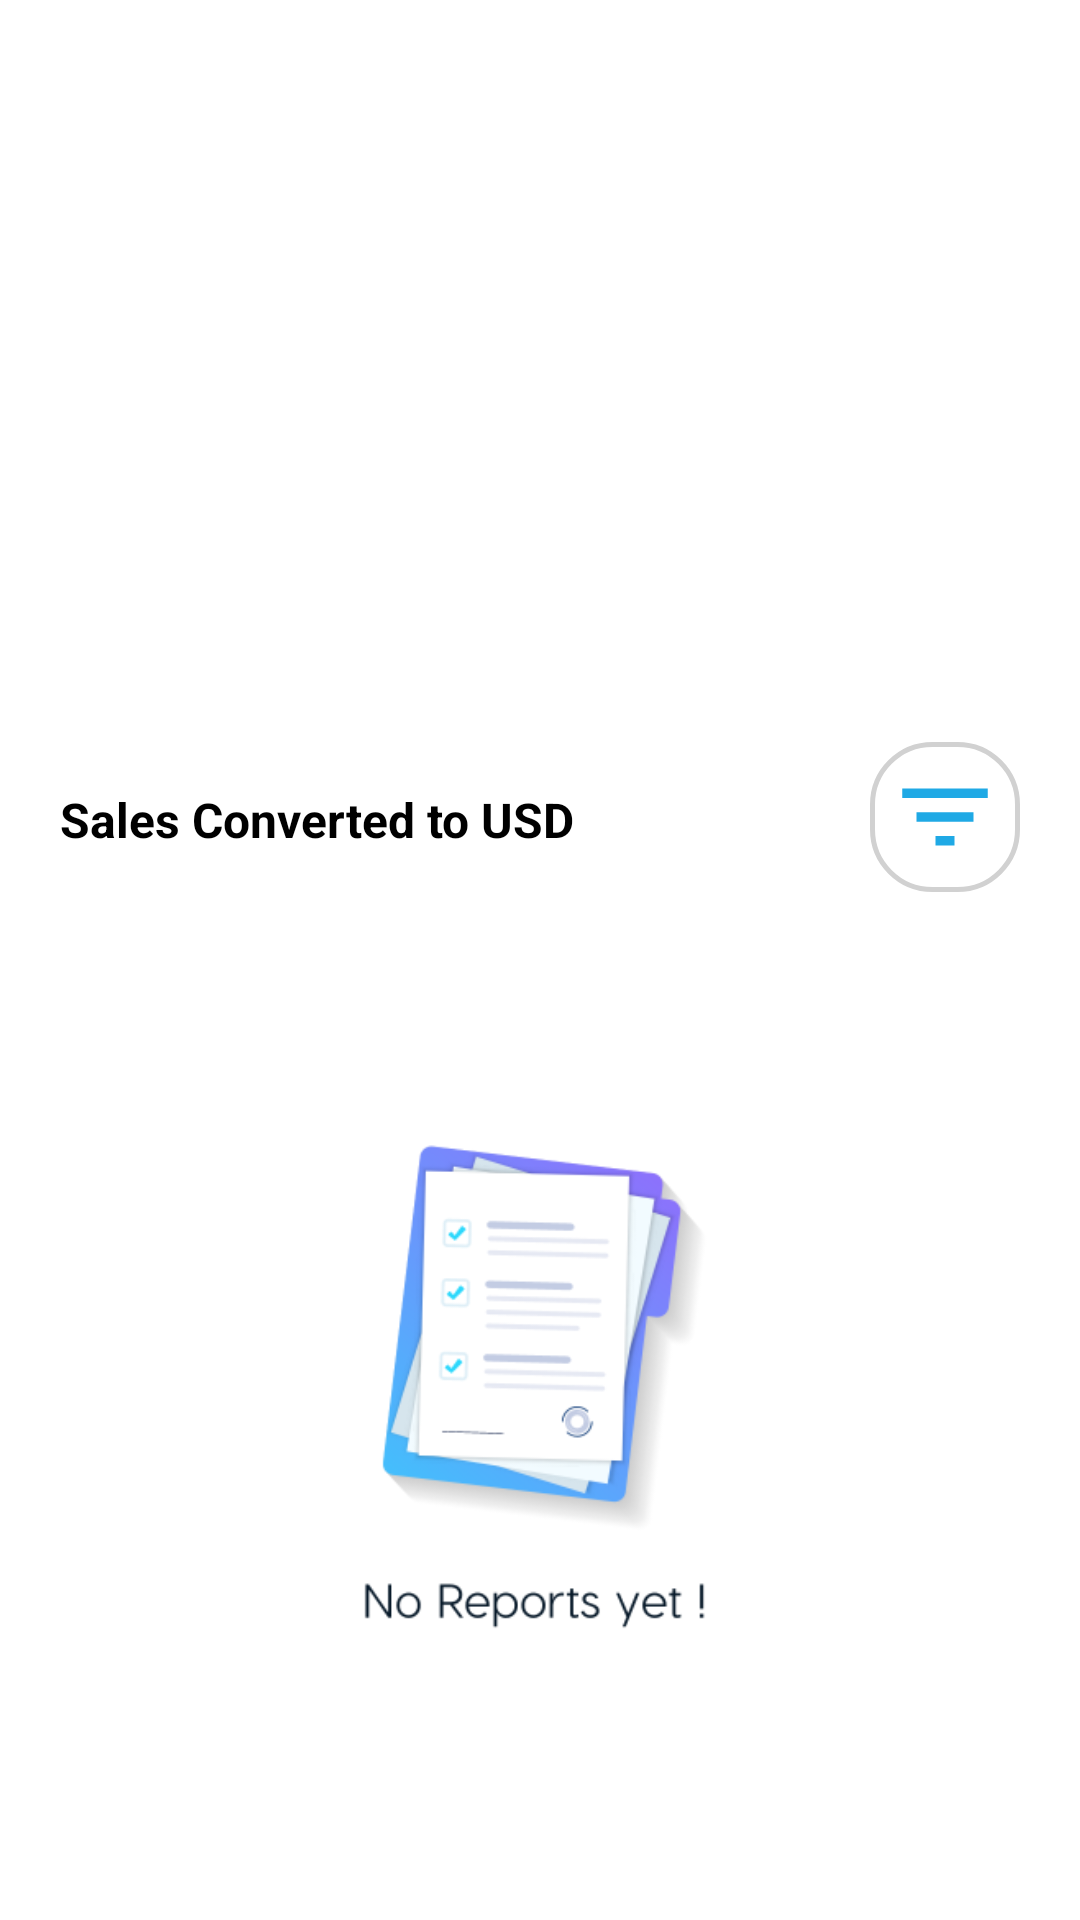

Locate icon controls on the screen. Image size 1080 x 1920, boxes as (x1=x1, y1=y1, x2=x2, y2=y2).
filter list: (x1=870, y1=742, x2=1020, y2=892)
